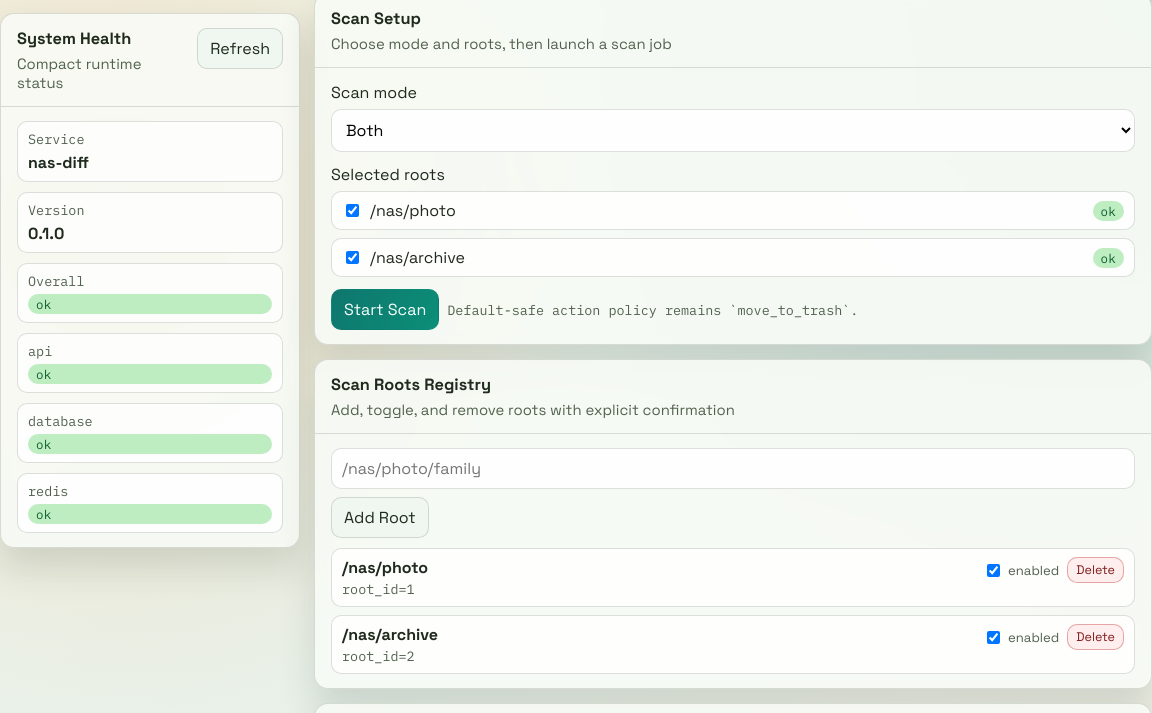
Test: DashboardPage › starts scan, updates jobs table, and renders detail panel
Expected: the element with test id "health-grid" is shown, [17, 121, 283, 533]
Expected: the element with test id "scan-roots-list" is shown, [331, 191, 1135, 277]
Click the button "Start Scan" at (385, 310), box [331, 289, 439, 330]
(page scrolled)
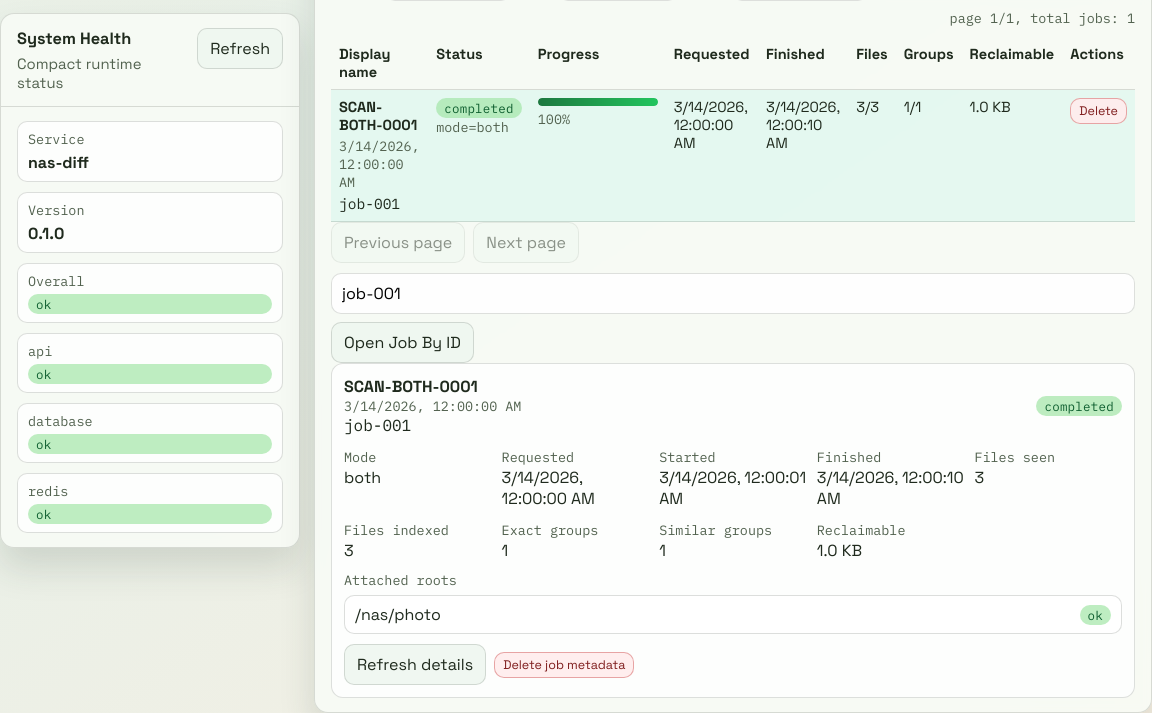
Expected: the table with test id "jobs-table" shows "SCAN-BOTH-0001", [339, 98, 417, 134]
Expected: the element with test id "job-detail-panel" shows "job-001", [344, 415, 411, 435]
Expected: the element with test id "job-detail-panel" shows "1.0 KB", [817, 540, 862, 561]
